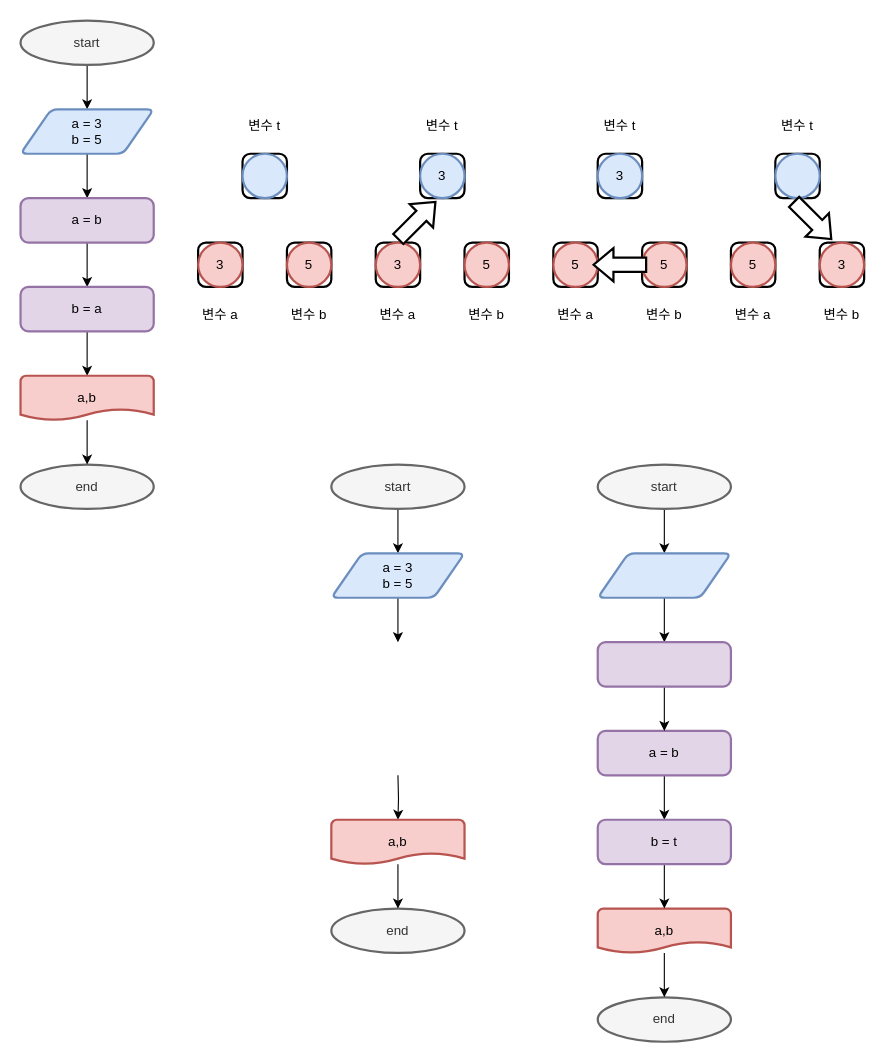
Image size: 884x1061. Some labels were removed from this diagram. The box of each missing label's shape, as (x1, y1, x2, y2) in pixels:
a = 3 b = 5 t: (596, 552, 731, 598)
t = a: (596, 640, 731, 687)
